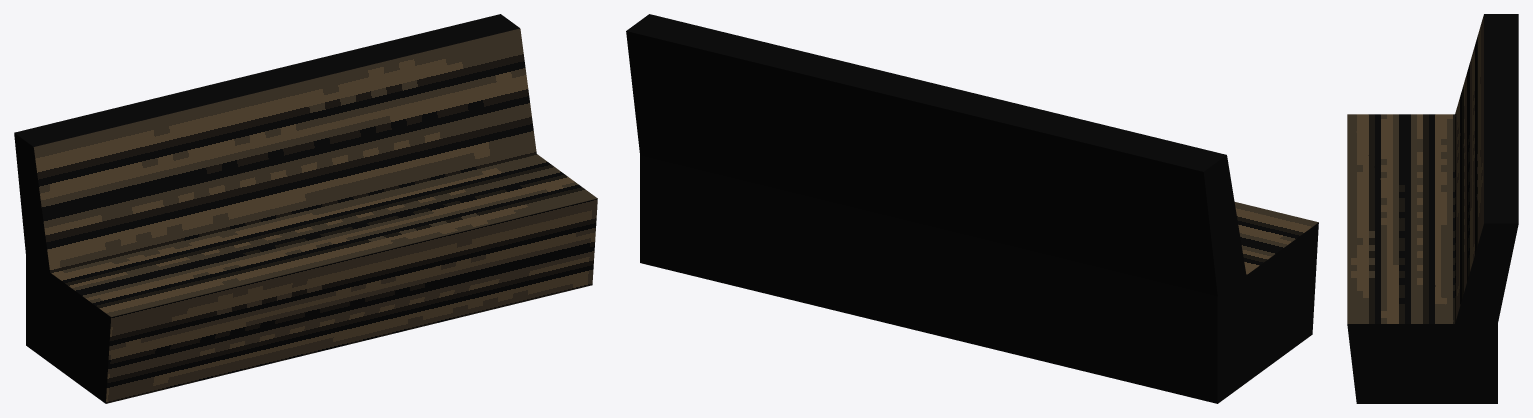
File: env_parkbench_medium.glb
3 renders of one model, left to right at view 1: azimuth 30°, elevation 25°; view 2: azimuth 150°, elevation 25°; view 3: azimuth 270°, elevation 25°, orthographic. The views are drawn at different scales.
Parts seen in each view (by area): view 1: env_parkbench_medium; view 2: env_parkbench_medium; view 3: env_parkbench_medium.
Boxes of the visible parts, x1,y1,x2,y2 form: env_parkbench_medium: (14, 14, 597, 403); env_parkbench_medium: (626, 14, 1318, 403); env_parkbench_medium: (1347, 14, 1518, 403).
Size of the model in its own units: 0.00635 by 0.00255 by 0.00219.
Materials: 1 (1 with a texture image).
